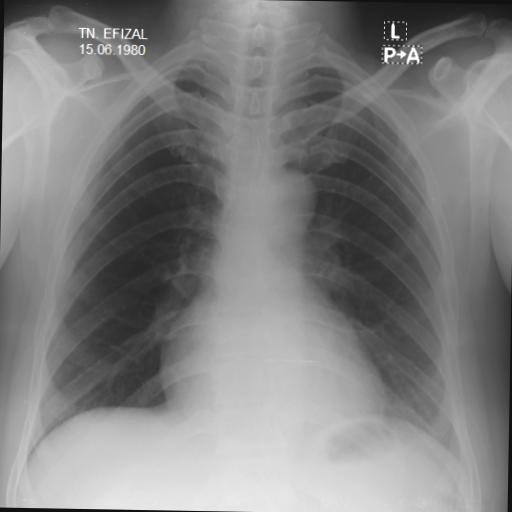normal: (22, 19, 486, 467)
